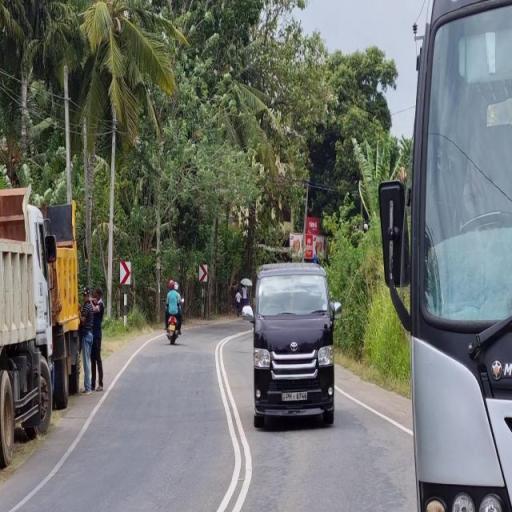double_white_line: (210, 330, 252, 512)
